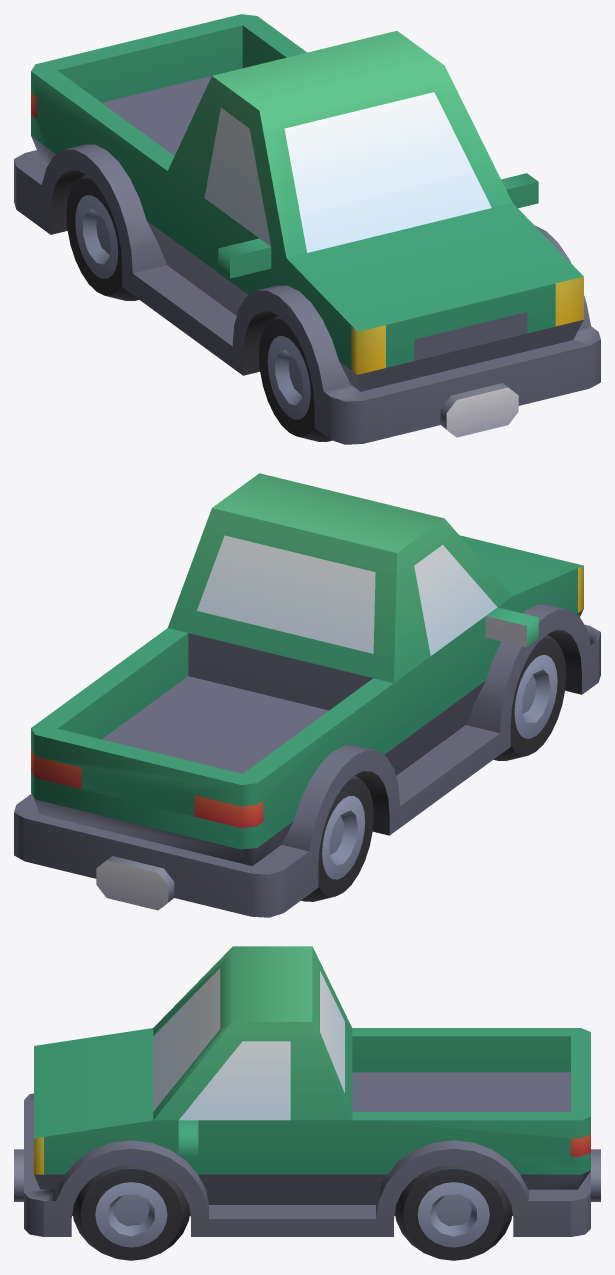
File: traffic_truck.glb
The picture shows the model from 3 angles, top to bottom: view 1: azimuth 30°, elevation 25°; view 2: azimuth 150°, elevation 25°; view 3: azimuth 270°, elevation 25°; orthographic projection. The views are drawn at different scales.
Parts seen in each view (by area): view 1: body; view 2: body; view 3: body.
Boxes of the visible parts, <box> form: body: <box>14,14,600,444</box>; body: <box>14,473,600,917</box>; body: <box>14,946,600,1260</box>.
Size of the model in its own units: 1.5 by 1.3 by 2.95.
1 material, 1 textured.
